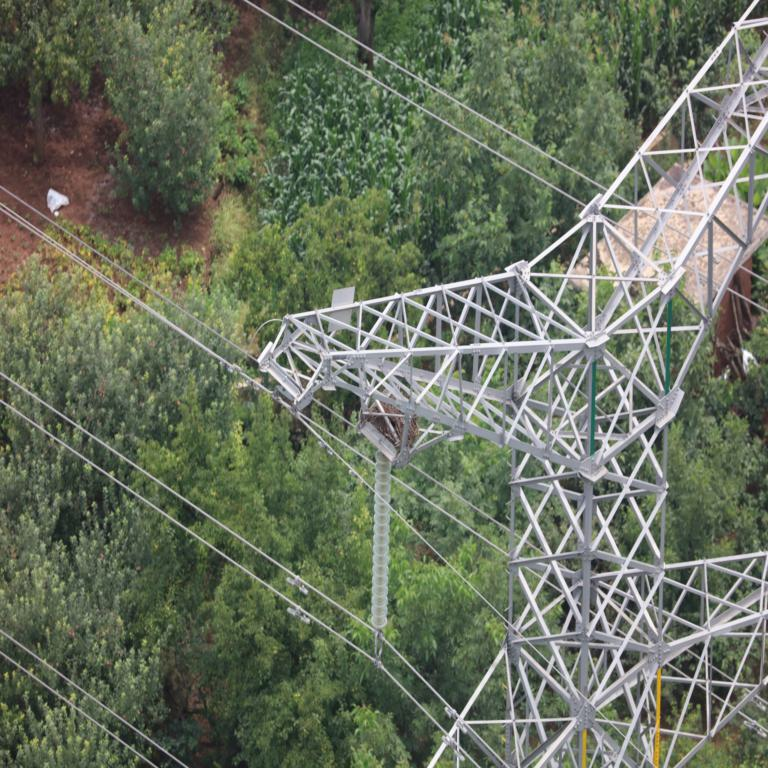nest: (368, 402, 414, 448)
